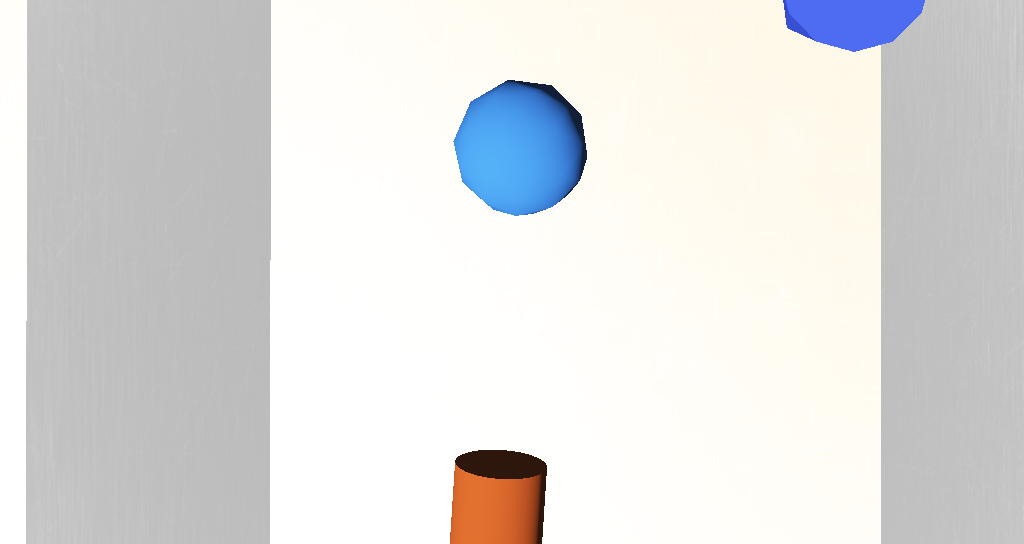cone: (438, 332, 492, 384)
cylinder: (583, 155, 657, 208)
sphere: (448, 208, 509, 251)
